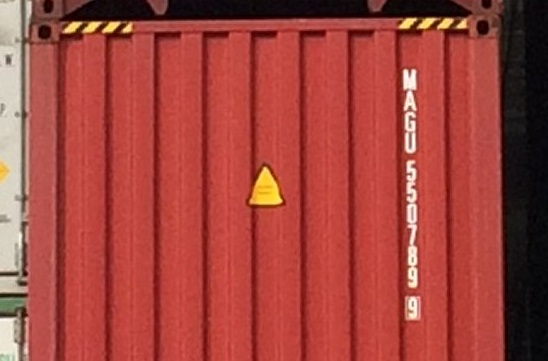container_no_door: (27, 19, 508, 361)
